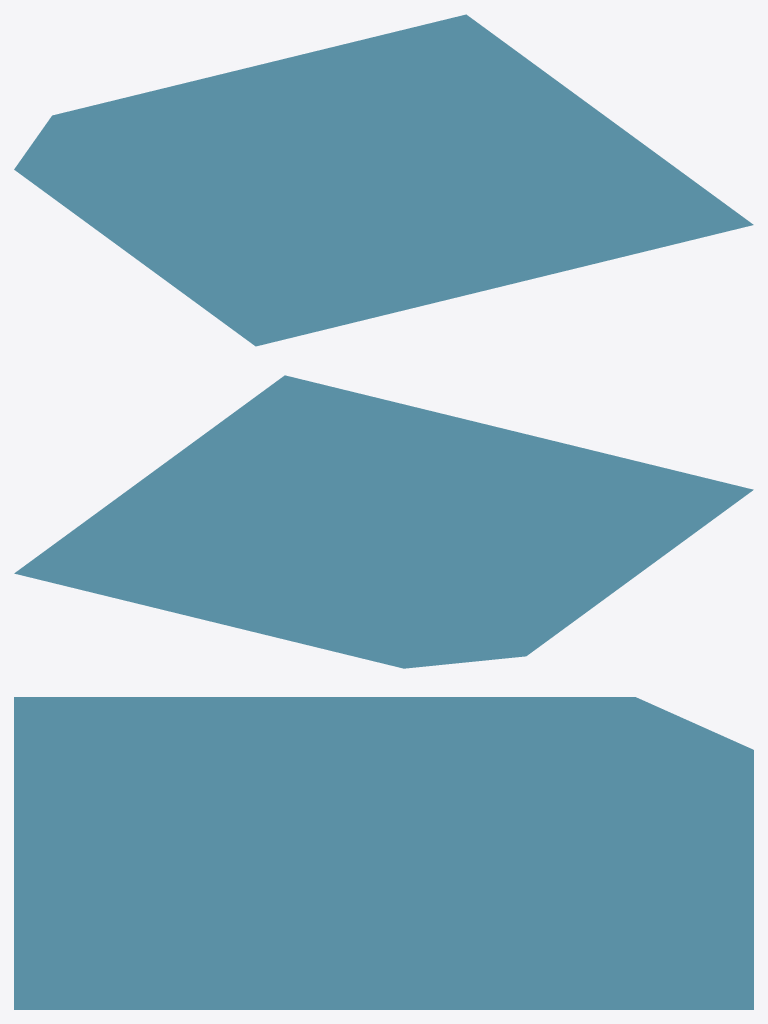
File: tile_10_2.glb
3 views of the same model, one above another, from view 1: azimuth 30°, elevation 25°; view 2: azimuth 150°, elevation 25°; view 3: azimuth 270°, elevation 25° (orthographic). The views are drawn at different scales.
Parts seen in each view (by area): view 1: nature_water; view 2: nature_water; view 3: nature_water.
Boxes of the visible parts, <box> form: nature_water: <box>14,14,753,346</box>; nature_water: <box>14,375,753,668</box>; nature_water: <box>14,697,753,1009</box>.
Size of the model in its own units: 250 by 0 by 250.
